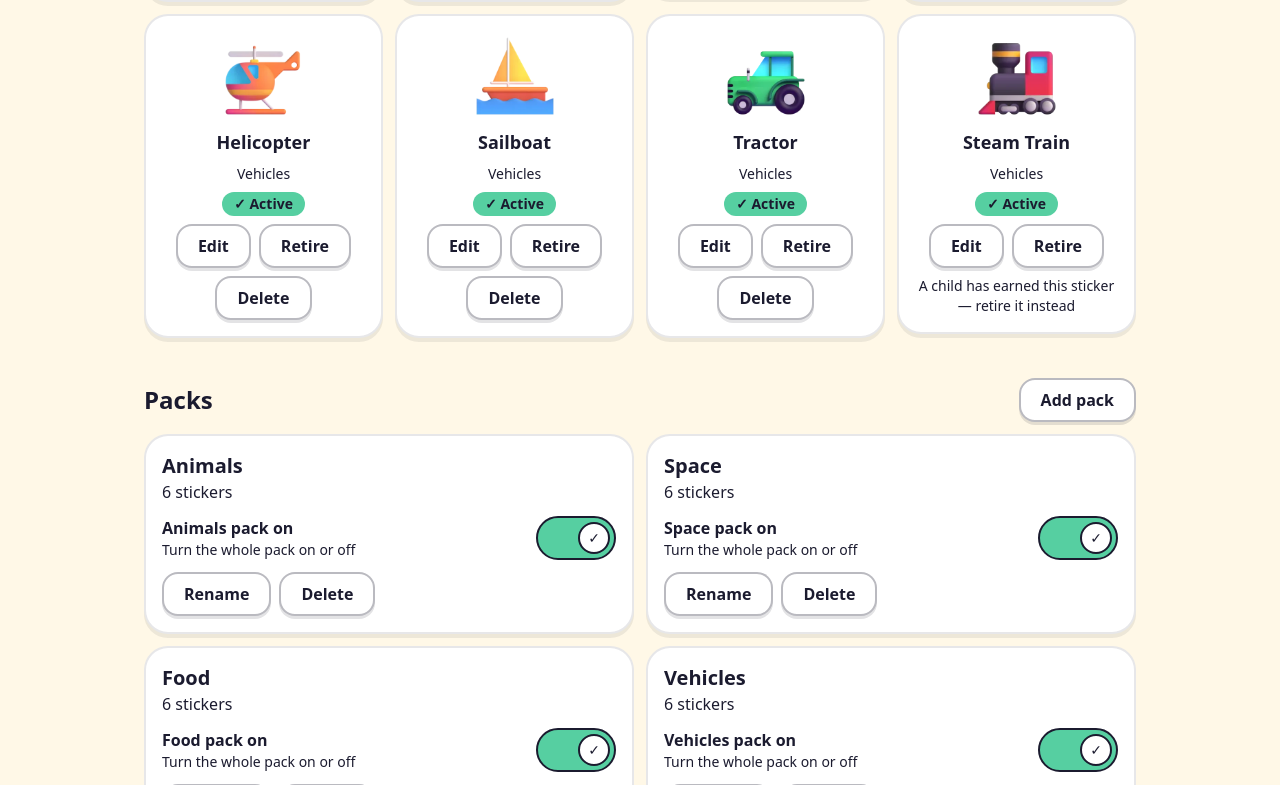
LibraryScreen › adds a pack
This screenshot has width=1280, height=785.
(page scrolled)
Click the button "Add pack": click(1077, 400) [1019,378,1136,422]
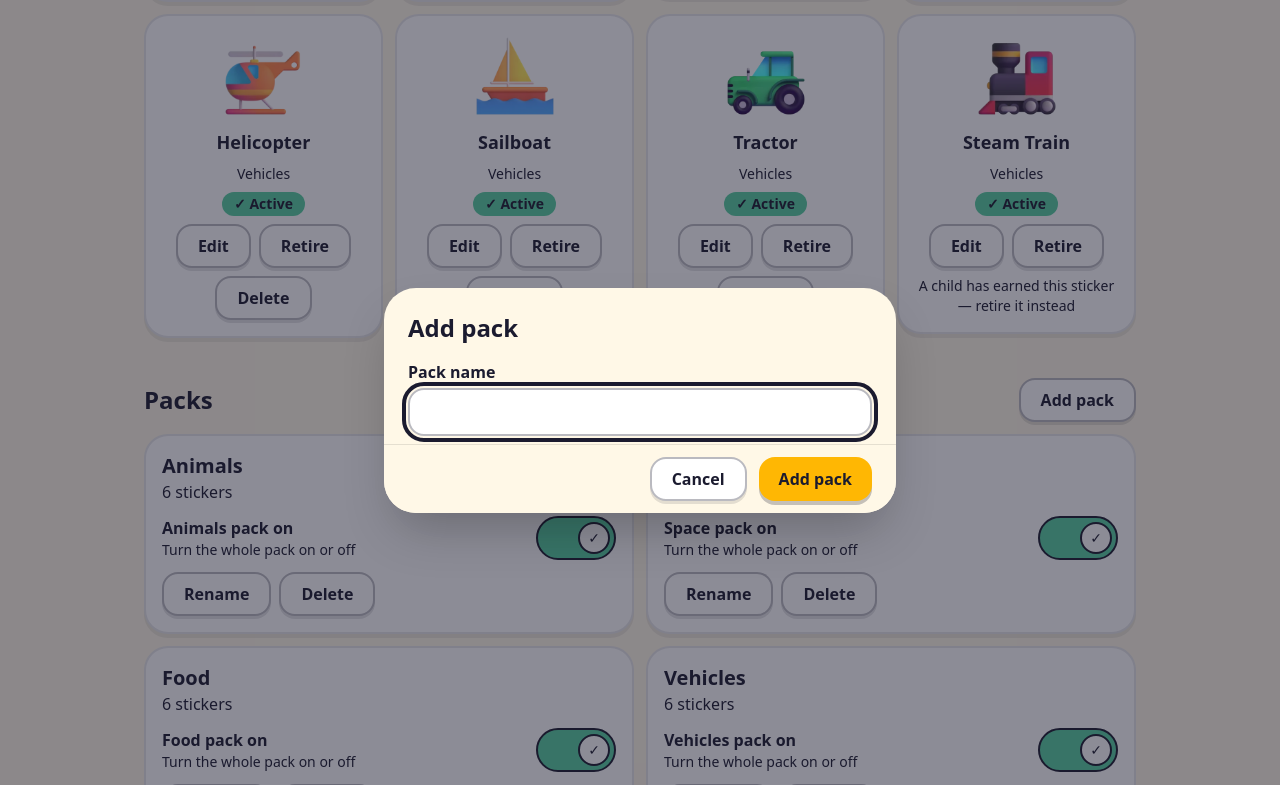
In the field labelled "Pack name": (640, 412) [408,388,872,436], type "Dinosaurs"
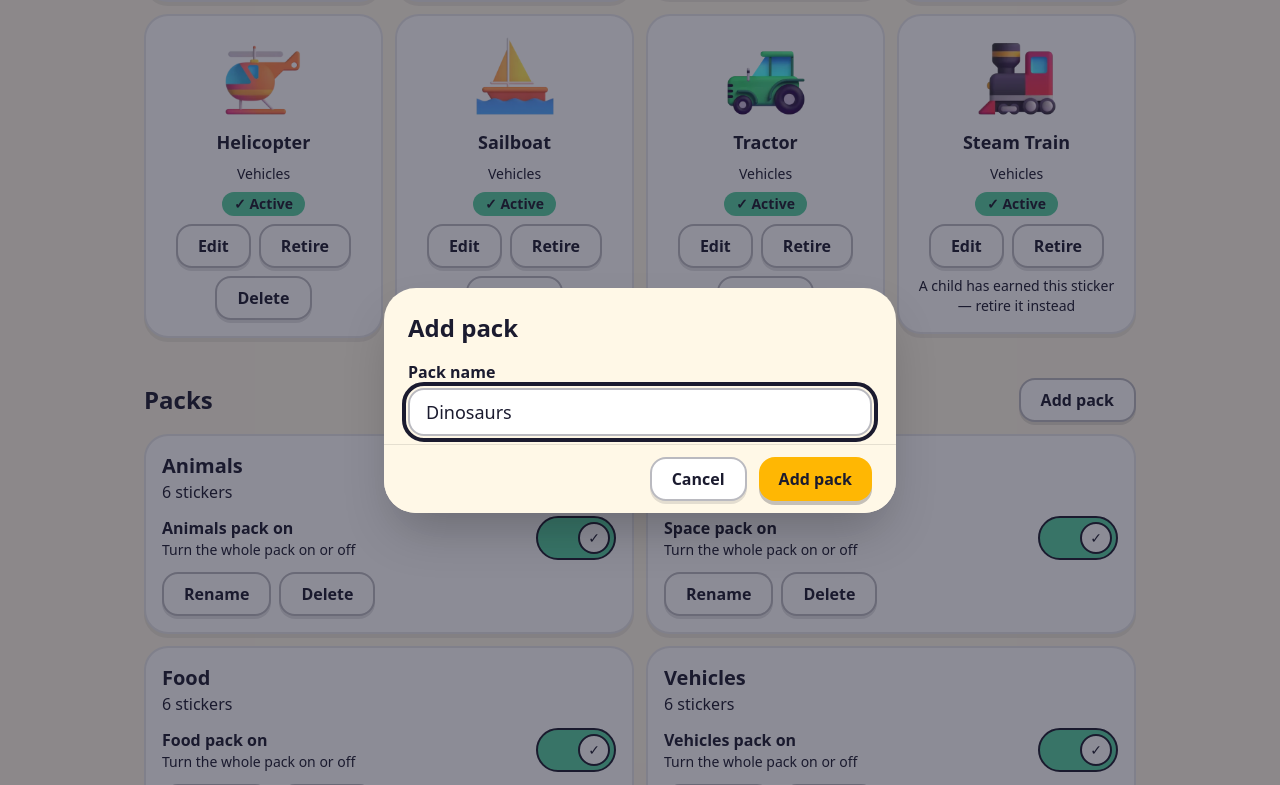
Click the button "Add pack": click(815, 478) [759,456,872,500]
(page scrolled)
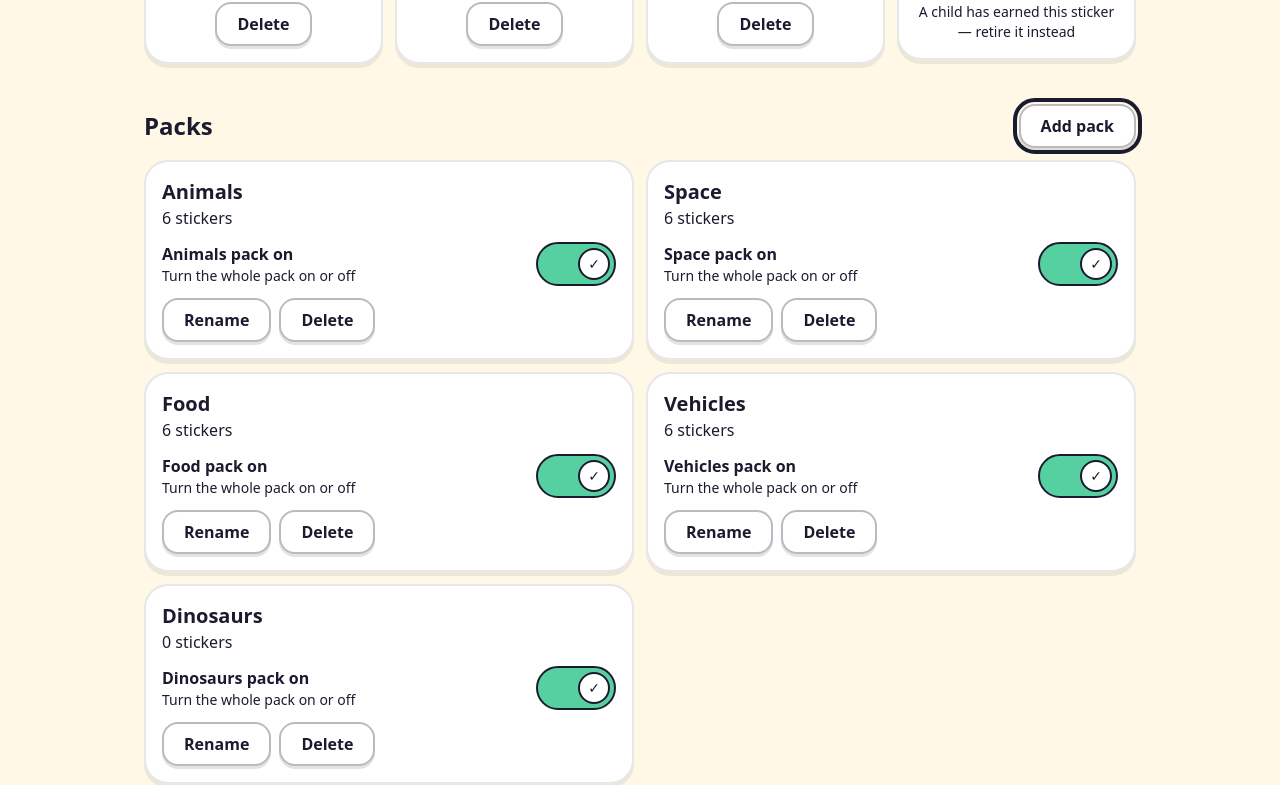
Now the heading "Dinosaurs" is shown, box [162,602,263,629]
